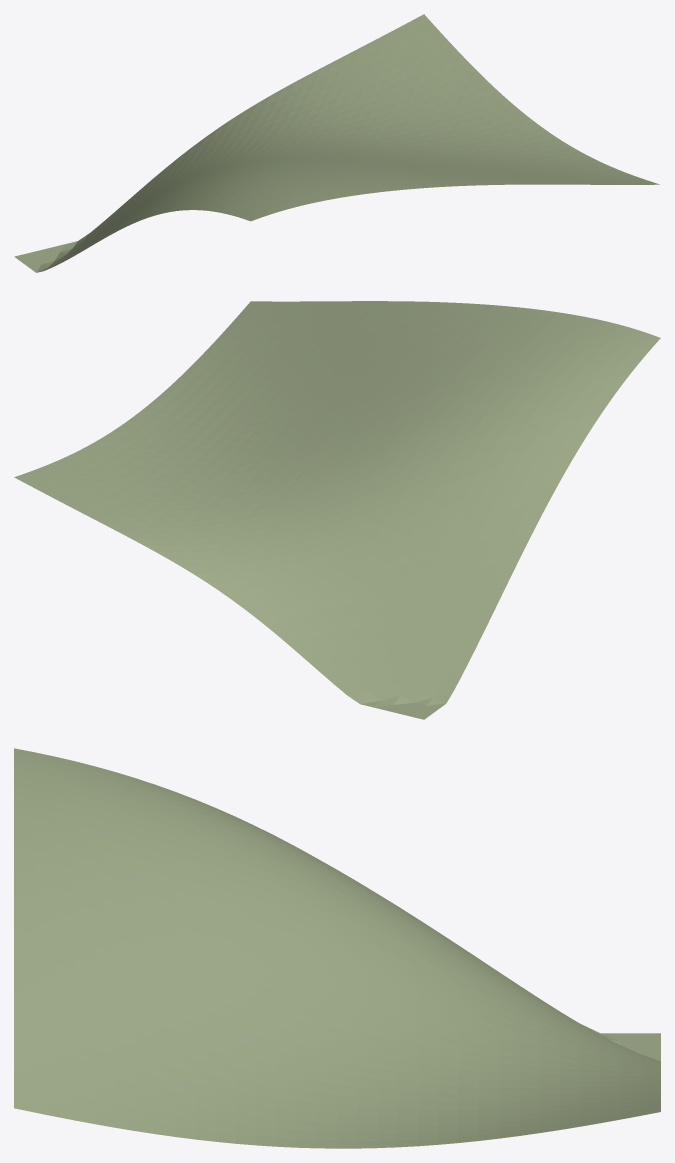
File: expanse-13-15.glb
The picture shows the model from 3 angles, top to bottom: view 1: azimuth 30°, elevation 25°; view 2: azimuth 150°, elevation 25°; view 3: azimuth 270°, elevation 25°; orthographic projection. The views are drawn at different scales.
Parts seen in each view (by area): view 1: expanse-13-15; view 2: expanse-13-15; view 3: expanse-13-15.
Boxes of the visible parts, x1,y1,x2,y2 form: expanse-13-15: (14,14,659,272); expanse-13-15: (14,301,660,719); expanse-13-15: (14,748,660,1148).
Bounding box in the file's own units: 256 × 126 × 256.
